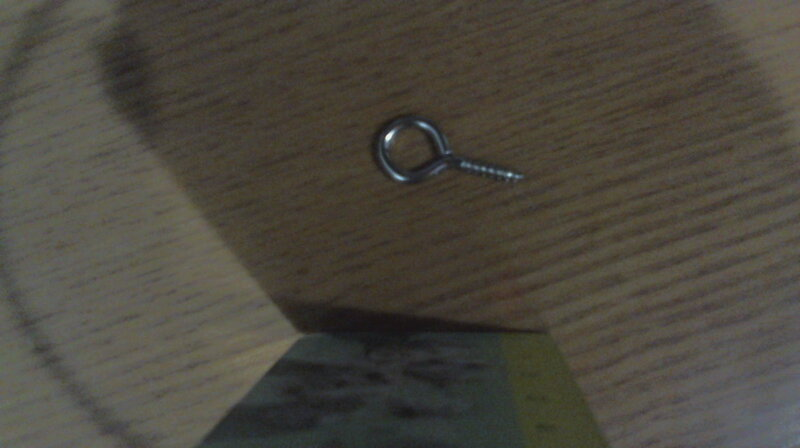O001: (369, 110, 532, 193)
